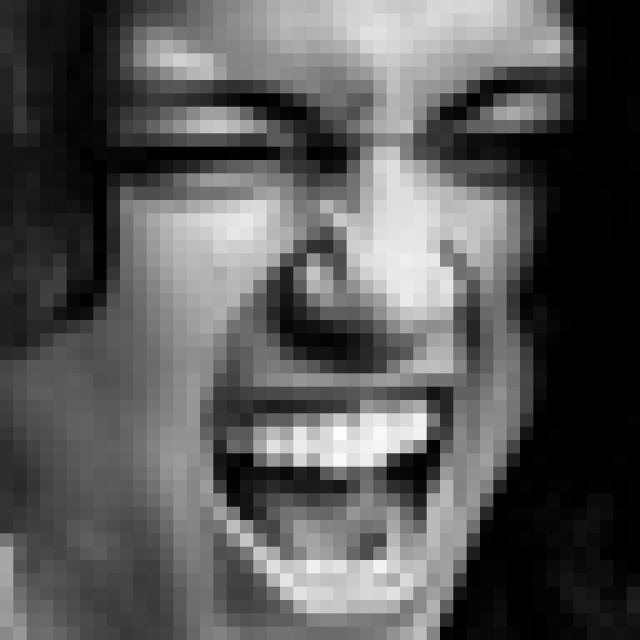angry: (107, 65, 577, 628)
